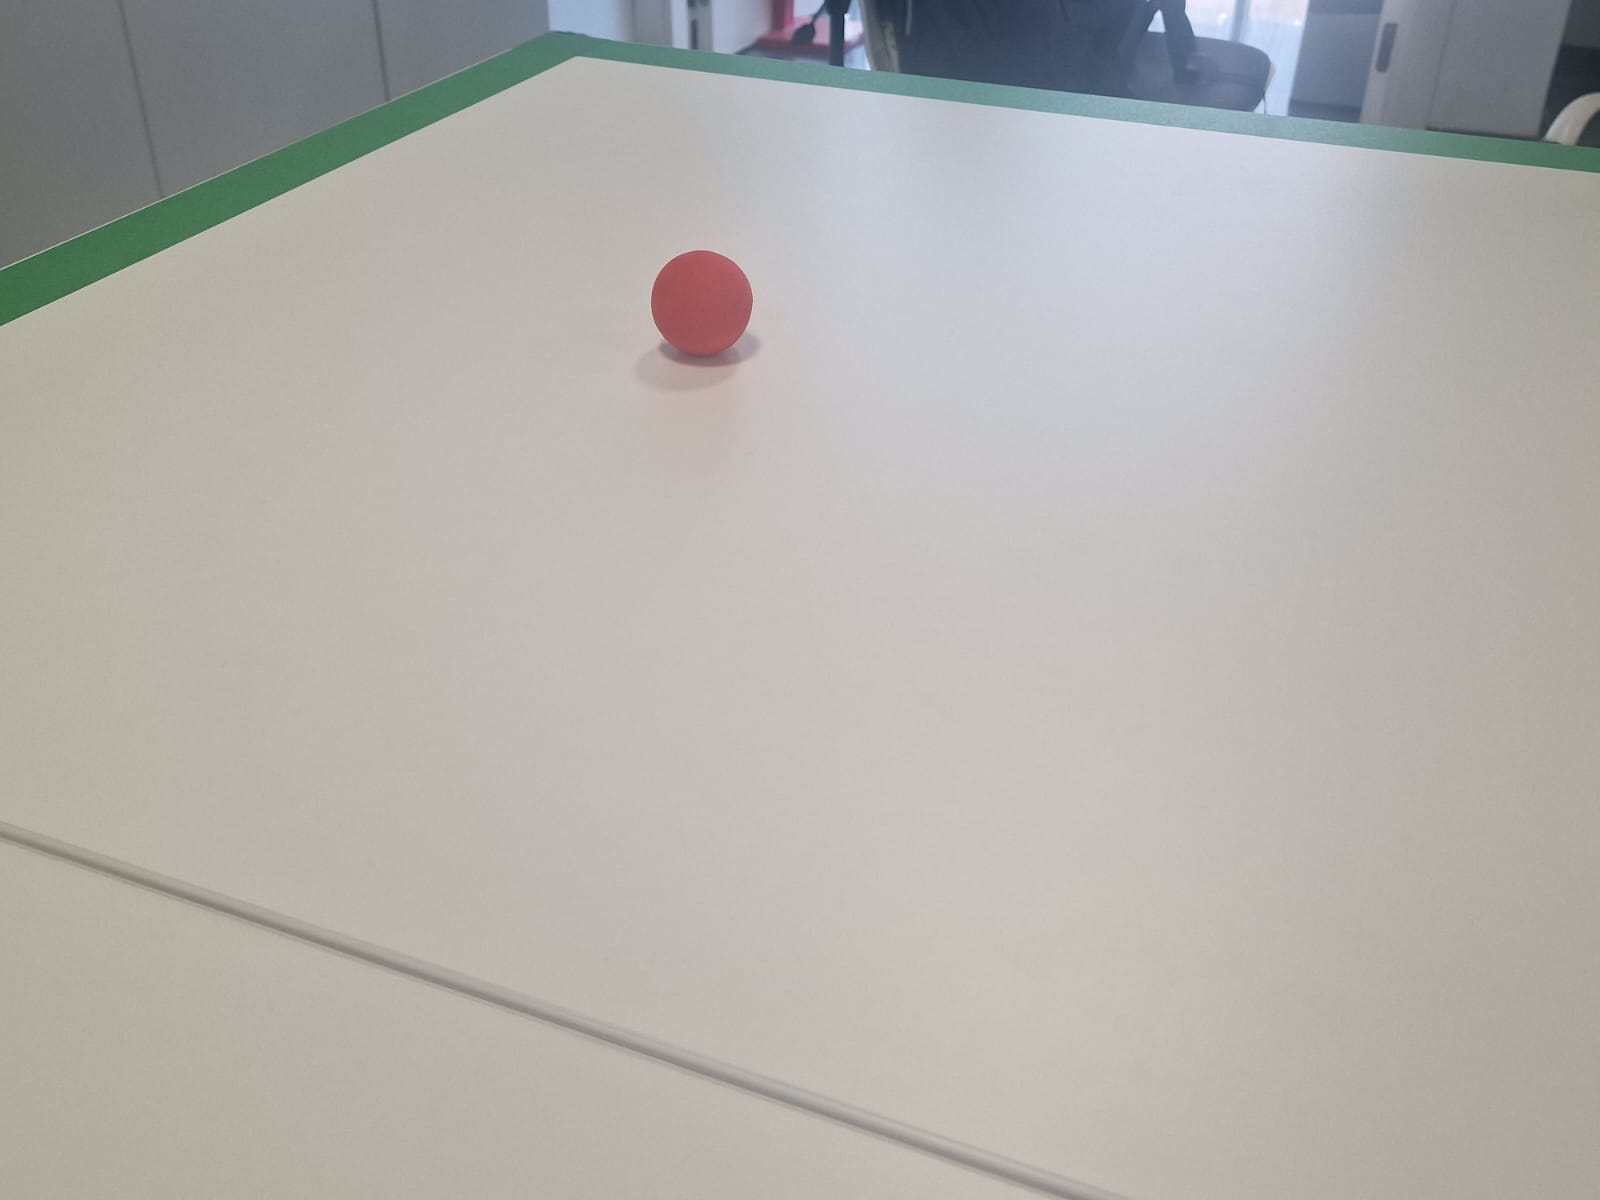bola_cerca: (643, 247, 755, 358)
